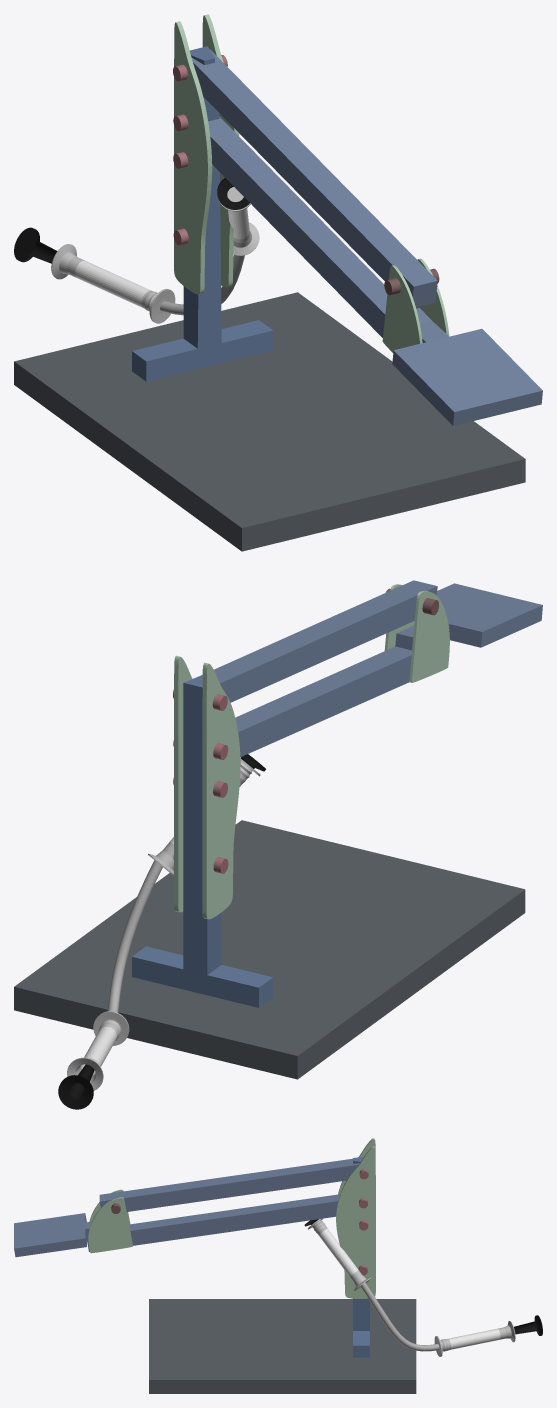
File: FIJO_ANIMADO.fbx
3 views of the same model, one above another, from view 1: azimuth 30°, elevation 25°; view 2: azimuth 150°, elevation 25°; view 3: azimuth 270°, elevation 25° (orthographic). The views are drawn at different scales.
Parts seen in each view (by area): view 1: Base, Arm, GroundSyringe, BaseSyringe, Circle.005, Tube; view 2: Base, Arm, GroundSyringe, Tube, Circle.005, BaseSyringe; view 3: Base, Arm, GroundSyringe, BaseSyringe, Tube, Circle.005.
Boxes of the visible parts, box(x1,y1,x2,y2) form: Base: box(14, 14, 525, 551); Arm: box(191, 49, 542, 425); GroundSyringe: box(51, 244, 175, 323); BaseSyringe: box(219, 187, 259, 255); Circle.005: box(14, 227, 57, 263); Tube: box(160, 254, 244, 315); Base: box(14, 655, 525, 1079); Arm: box(214, 580, 542, 757); GroundSyringe: box(67, 1011, 129, 1090); Tube: box(107, 860, 162, 1012); Circle.005: box(58, 1064, 94, 1109); BaseSyringe: box(148, 758, 260, 875); Base: box(149, 1138, 416, 1393); Arm: box(14, 1158, 359, 1257); GroundSyringe: box(434, 1321, 515, 1356); BaseSyringe: box(307, 1218, 371, 1291); Tube: box(360, 1282, 439, 1351); Circle.005: box(514, 1315, 542, 1335).
Bounding box in the file's own units: 299 × 361 × 822.
